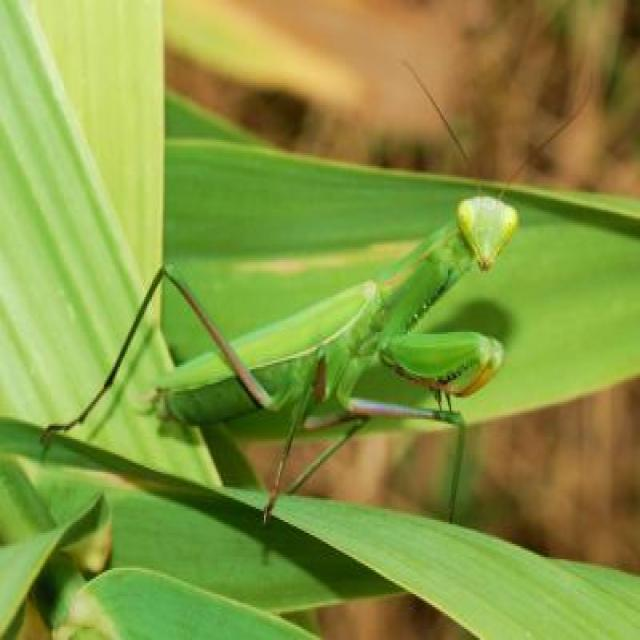antennae: (500, 76, 592, 196), (402, 66, 482, 198)
body: (167, 200, 510, 420)
insect: (36, 54, 598, 527)
legs: (35, 267, 290, 437), (377, 262, 491, 401), (388, 268, 502, 396), (270, 343, 338, 511)
mouthpart: (473, 247, 495, 274)
wings: (159, 277, 373, 396)
